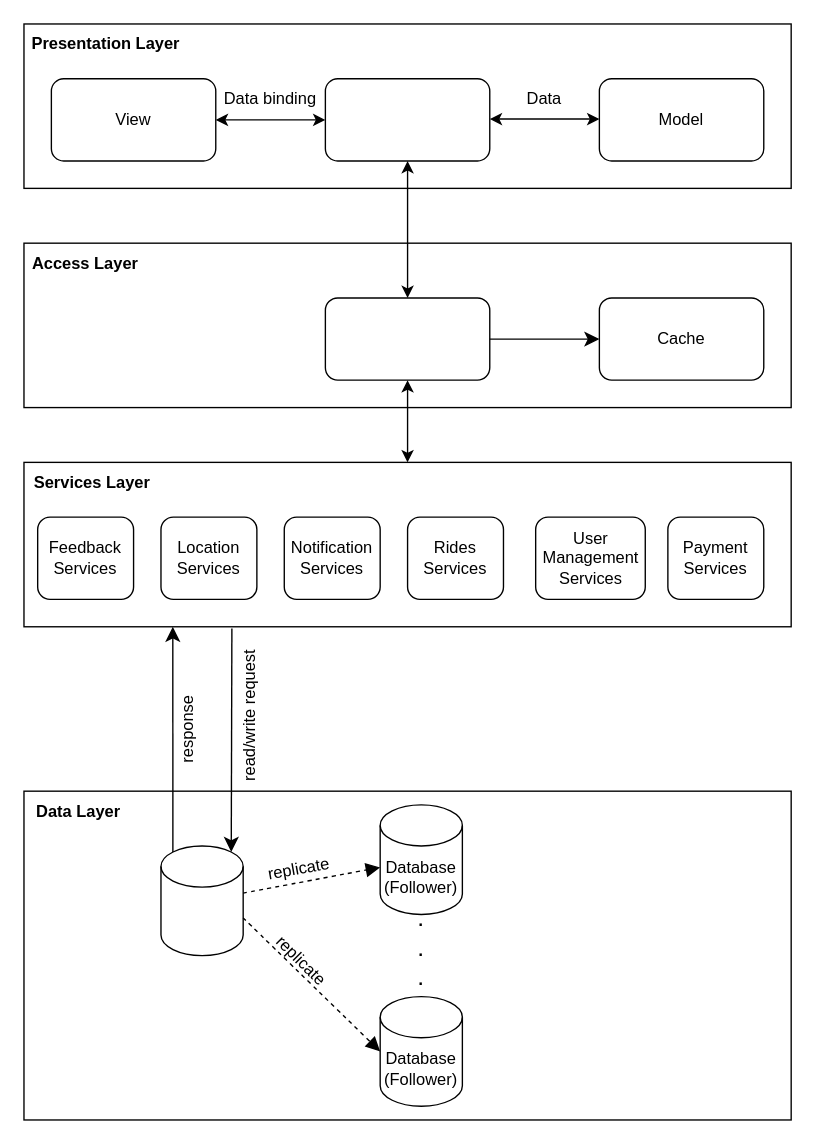
Image size: 815x1144. Some labels were removed from this diagram. The centre of each missing label's shape, as x and y in pixels:
API gateway: point 407,338
Database (Leader): point 201,900
ViewModel: point 407,119
